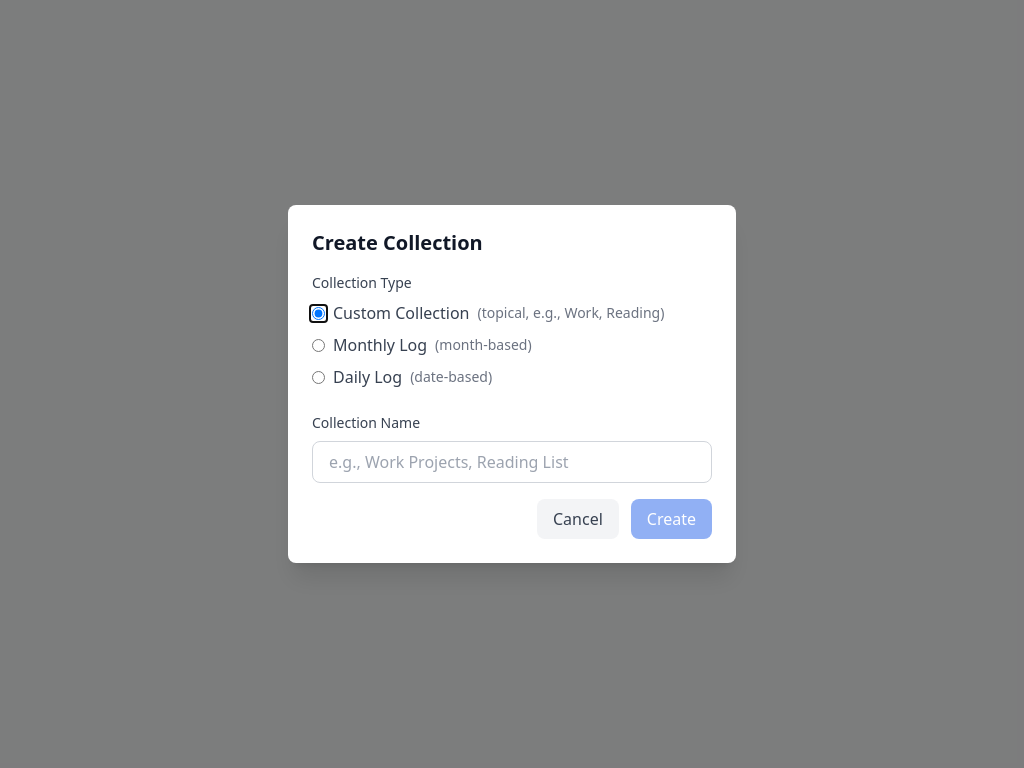
CreateCollectionModal › Monthly Logs › should update preview when month/year changes
The image size is (1024, 768).
Note: Switch to monthly log
Click the radio button labelled "Monthly Log (month-based)" at [318, 345], box [312,338,325,352]
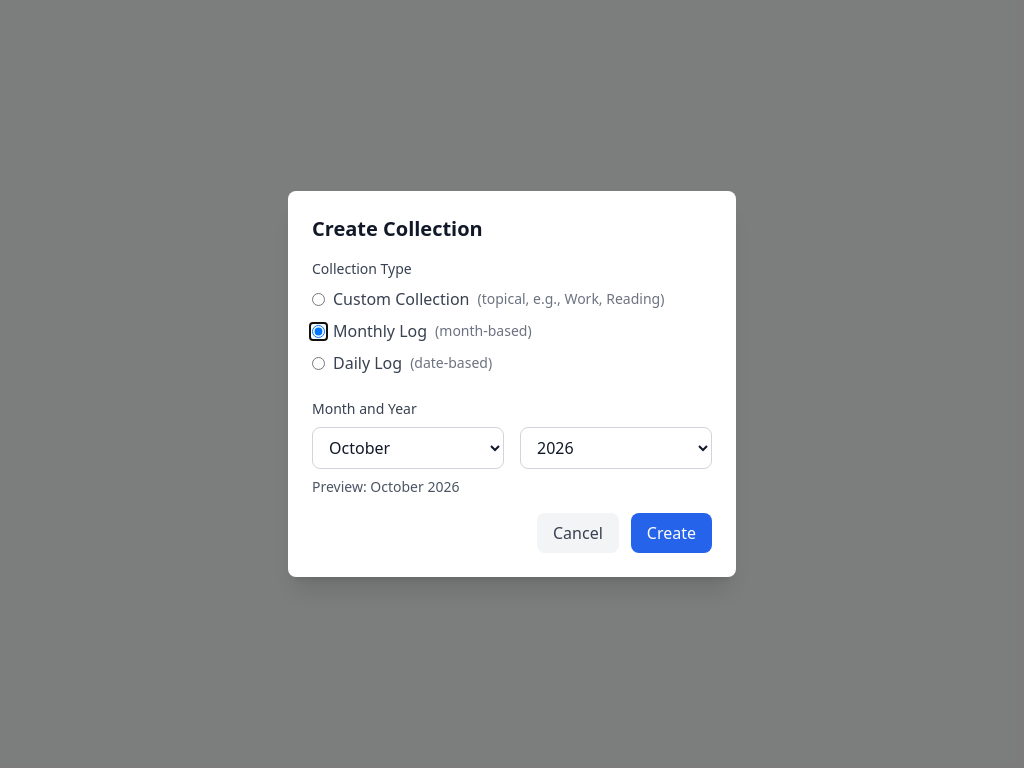
Select "December" in the 1st dropdown at [408, 448], box [312,427,504,469]
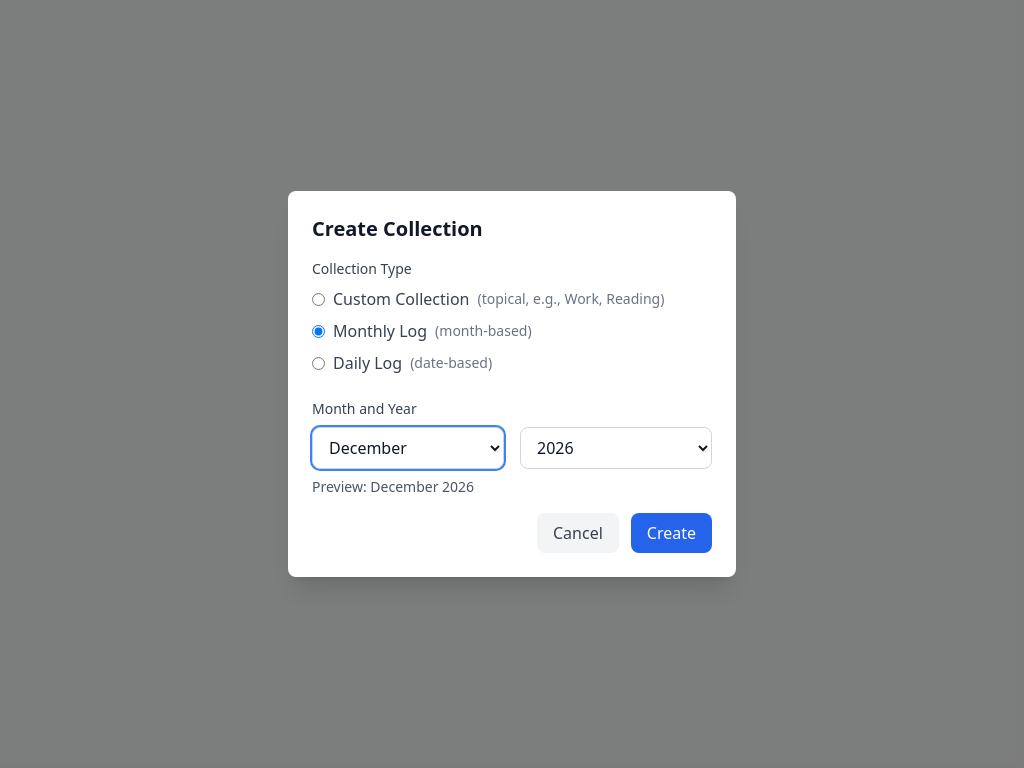
Select "2025" in the 2nd dropdown at [616, 448], box [520,427,712,469]
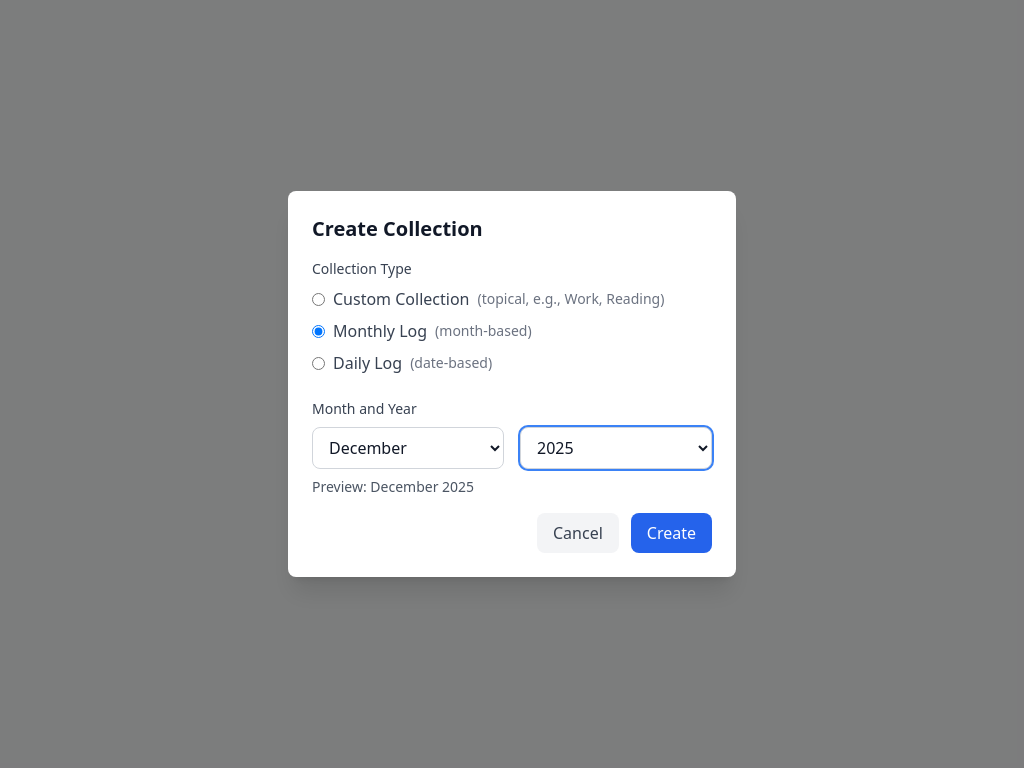
Check: the text "Preview: December 2025" is shown, box [312,477,474,496]
